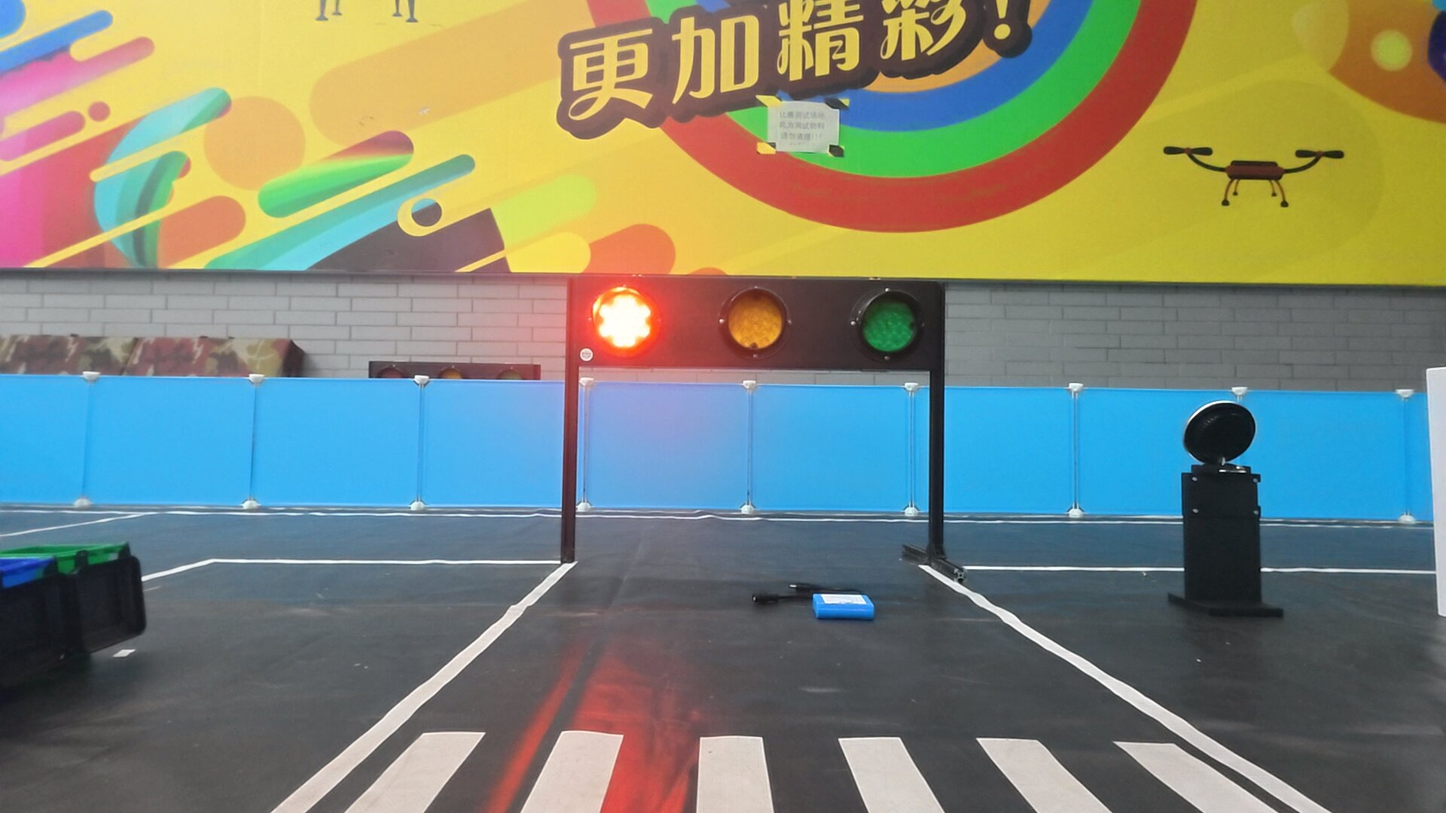stop: (588, 282, 659, 355)
